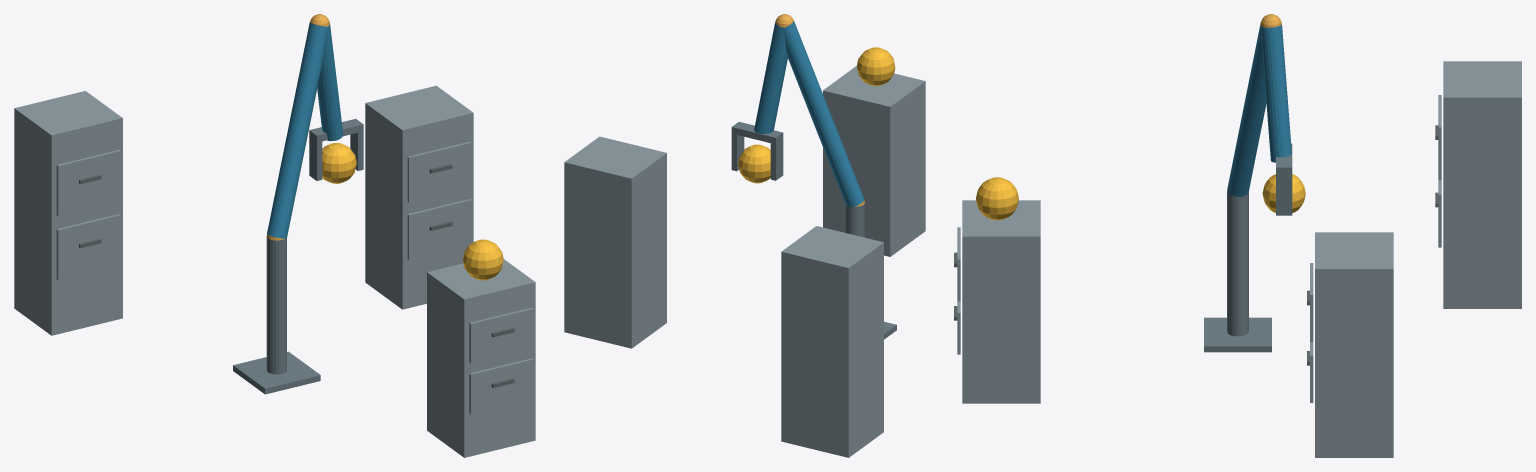
3 renders of one model, left to right at view 1: azimuth 30°, elevation 25°; view 2: azimuth 150°, elevation 25°; view 3: azimuth 270°, elevation 25°, orthographic. The views are drawn at different scales.
Parts seen in each view (by area): view 1: cabinet_3 body, cabinet_2 body, cabinet_1 body, moving link 1, cabinet_3 drawer front, cabinet_3 drawer front.001, cabinet_2 drawer front.001, cabinet_2 drawer front, fixed post, cabinet_1 drawer front, cabinet_1 drawer front.001, pedestal (+4 smaller); view 2: cabinet_3 body, cabinet_2 body, cabinet_1 body, moving link 1, moving link 2, released ball_1, ball ball_2, gripper bridge, fixed post, gripper finger -1, gripper finger 1; view 3: cabinet_3 body, cabinet_2 body, cabinet_1 body, fixed post, moving link 1, moving link 2, pedestal, released ball_1, ball ball_2, gripper finger 1.
Boxes of the visible parts, bbox=[...] form: cabinet_3 body: bbox=[14, 91, 122, 335]; cabinet_2 body: bbox=[365, 85, 473, 309]; cabinet_1 body: bbox=[427, 259, 535, 457]; moving link 1: bbox=[267, 22, 327, 238]; cabinet_3 drawer front: bbox=[56, 214, 120, 280]; cabinet_3 drawer front.001: bbox=[56, 150, 120, 216]; cabinet_2 drawer front.001: bbox=[407, 141, 471, 202]; cabinet_2 drawer front: bbox=[407, 199, 471, 259]; fixed post: bbox=[266, 237, 286, 374]; cabinet_1 drawer front: bbox=[469, 358, 533, 413]; cabinet_1 drawer front.001: bbox=[469, 307, 533, 363]; pedestal: bbox=[233, 351, 320, 394]; cabinet_3 body: bbox=[781, 226, 883, 457]; cabinet_2 body: bbox=[564, 136, 666, 348]; cabinet_1 body: bbox=[823, 66, 925, 256]; moving link 1: bbox=[784, 20, 864, 207]; moving link 2: bbox=[754, 22, 787, 133]; released ball_1: bbox=[857, 47, 895, 86]; ball ball_2: bbox=[738, 144, 770, 183]; gripper bridge: bbox=[731, 122, 783, 144]; fixed post: bbox=[845, 203, 864, 237]; gripper finger -1: bbox=[770, 139, 783, 180]; gripper finger 1: bbox=[731, 134, 744, 171]; cabinet_3 body: bbox=[1443, 61, 1521, 308]; cabinet_2 body: bbox=[1315, 232, 1393, 457]; cabinet_1 body: bbox=[962, 200, 1040, 403]; fixed post: bbox=[1227, 191, 1248, 336]; moving link 1: bbox=[1227, 22, 1266, 196]; moving link 2: bbox=[1261, 24, 1291, 162]; pedestal: bbox=[1204, 317, 1271, 352]; released ball_1: bbox=[976, 177, 1018, 220]; ball ball_2: bbox=[1262, 174, 1305, 212]; gripper finger 1: bbox=[1276, 175, 1292, 215].
Size of the model in its own units: 1.62 by 1.44 by 2.1.
